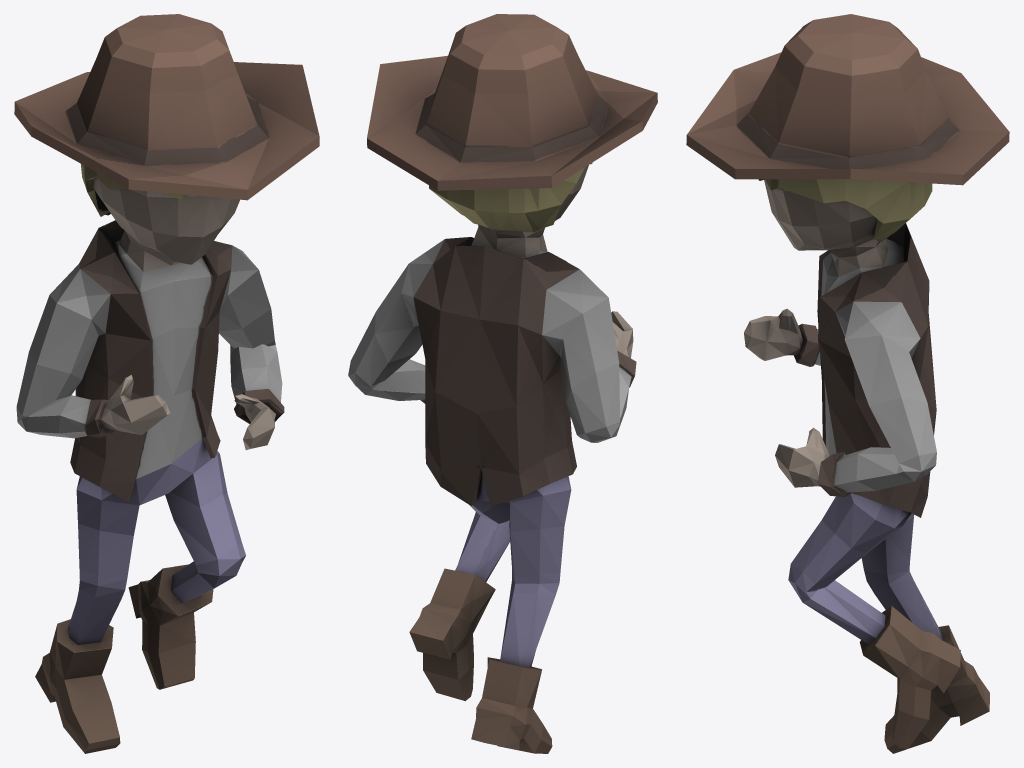
File: char_16.obj
The picture shows the model from 3 angles, left to right: view 1: azimuth 30°, elevation 25°; view 2: azimuth 150°, elevation 25°; view 3: azimuth 270°, elevation 25°; orthographic projection. The views are drawn at different scales.
Visible parts, largest first — view 1: Cube; view 2: Cube; view 3: Cube.
Part boxes in pixels (x1,y1,x2,y2): Cube: (14, 14, 319, 753); Cube: (348, 14, 657, 753); Cube: (686, 14, 1009, 753).
Bounding box in the file's own units: 3.49 × 8.88 × 3.53.
1 material, 1 textured.
